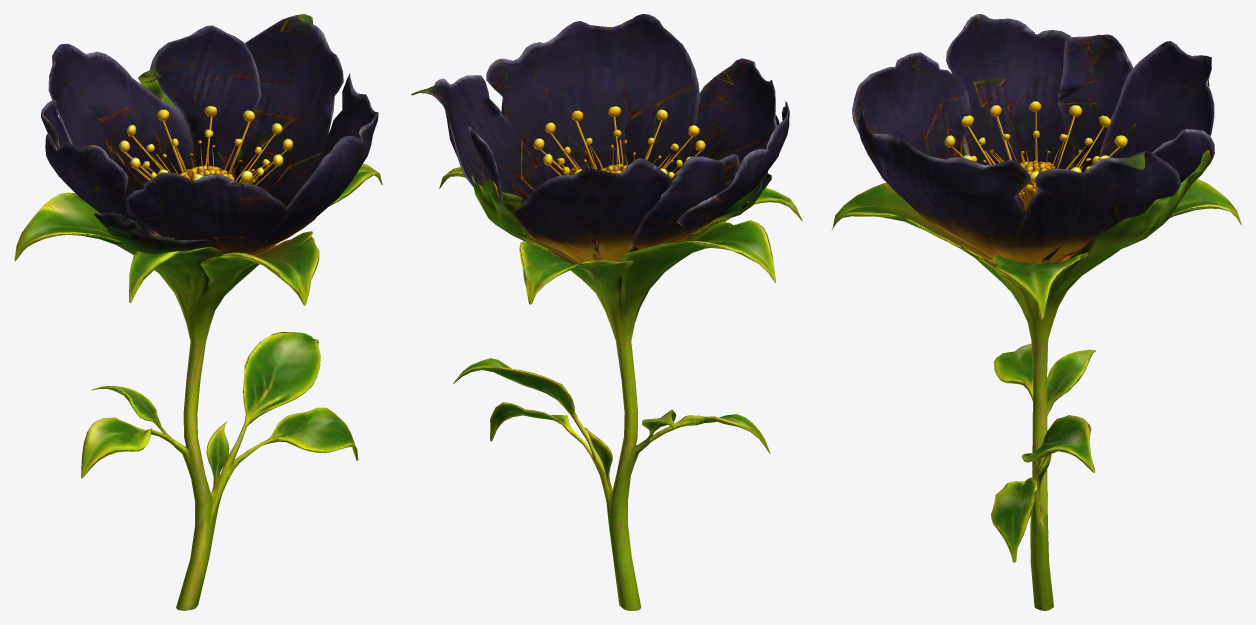
Rendered from poppy_black.glb.
3 renders of one model, left to right at view 1: azimuth 30°, elevation 25°; view 2: azimuth 150°, elevation 25°; view 3: azimuth 270°, elevation 25°, orthographic. The views are drawn at different scales.
Visible parts, largest first — view 1: geometry_0; view 2: geometry_0; view 3: geometry_0.
Boxes of the visible parts, <box> form: geometry_0: <box>14,14,382,610</box>; geometry_0: <box>411,14,802,610</box>; geometry_0: <box>831,14,1241,610</box>.
Size of the model in its own units: 0.6787 by 0.9502 by 0.665.
Materials: 1 (1 with a texture image).
